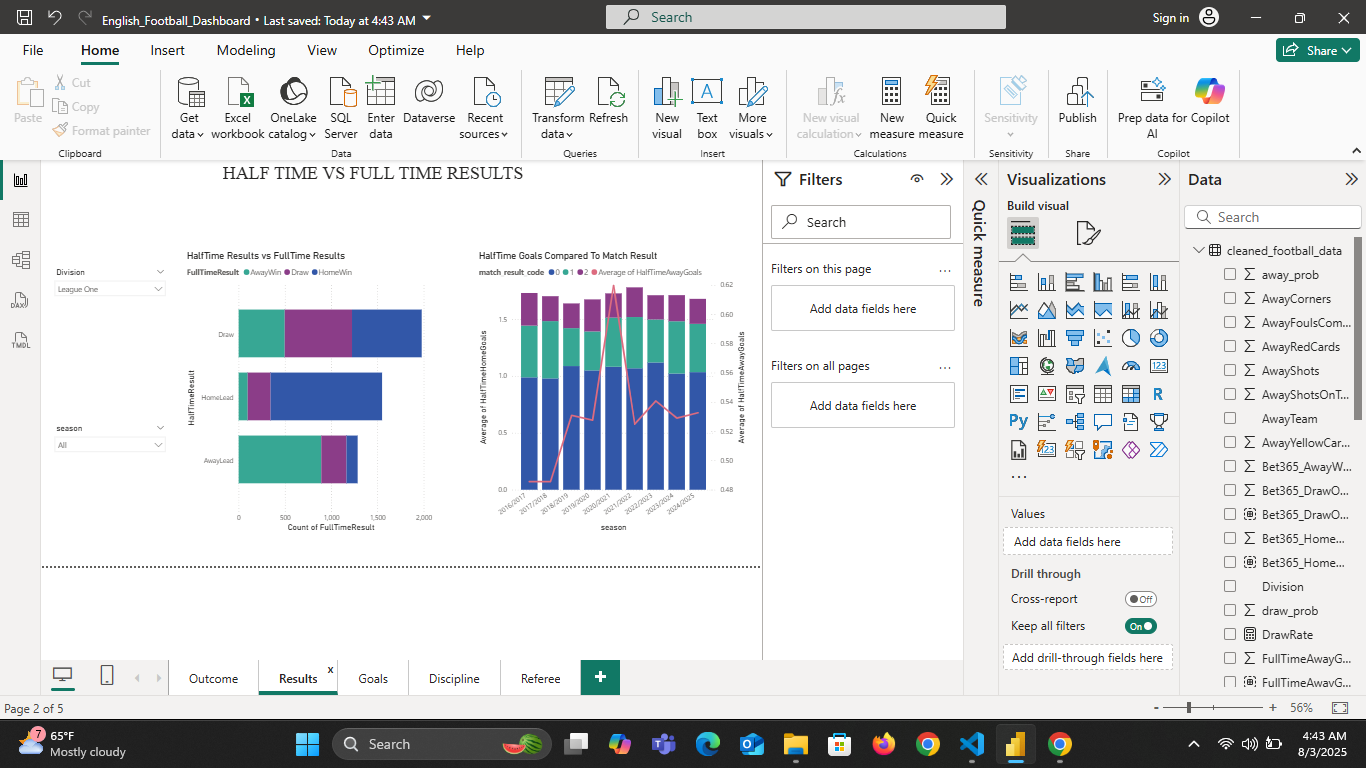

Layout of this report page (visuals, bound fields, positions):
{"tool":"powerbi","page":{"name":"Results","canvas":[1280,720],"ordinal":1},"visuals":[{"type":"barChart","title":"HalfTime Results vs FullTime Results ","fields":{"Y":["CountNonNull(cleaned_football_data.FullTimeResult)"],"Category":["cleaned_football_data.HalfTimeResult"],"Series":["cleaned_football_data.FullTimeResult"]},"box":[253.9,159.8,445.6,506],"z":0},{"type":"textbox","box":[317.5,0,562.7,109.2],"z":1000},{"type":"lineStackedColumnComboChart","title":"HalfTime Goals Compared To Match Result","fields":{"Category":["cleaned_football_data.season"],"Series":["cleaned_football_data.match_result_code"],"Y":["Avg(cleaned_football_data.HalfTimeHomeGoals)"],"Y2":["Avg(cleaned_football_data.HalfTimeAwayGoals)"]},"box":[772.3,159.8,482.9,506],"z":2000},{"type":"slicer","fields":{"Values":["cleaned_football_data.Division"]},"box":[14.2,186.4,216.6,97.6],"z":3000},{"type":"slicer","fields":{"Values":["cleaned_football_data.season"]},"box":[14.2,463.4,216.6,97.6],"z":4000}]}

Visuals, with their boxes on the page's 1280x720 design canvas (x1, y1, x2, y2). These are canvas units, not pixel positions in the 1366x768 screenshot, which may show the page scaled, cropped or inside an application window:
"HalfTime Results vs FullTime Results " barChart: (254, 160, 700, 666)
textbox: (318, 0, 880, 109)
"HalfTime Goals Compared To Match Result" lineStackedColumnComboChart: (772, 160, 1255, 666)
slicer - cleaned_football_data.Division: (14, 186, 231, 284)
slicer - cleaned_football_data.season: (14, 463, 231, 561)
